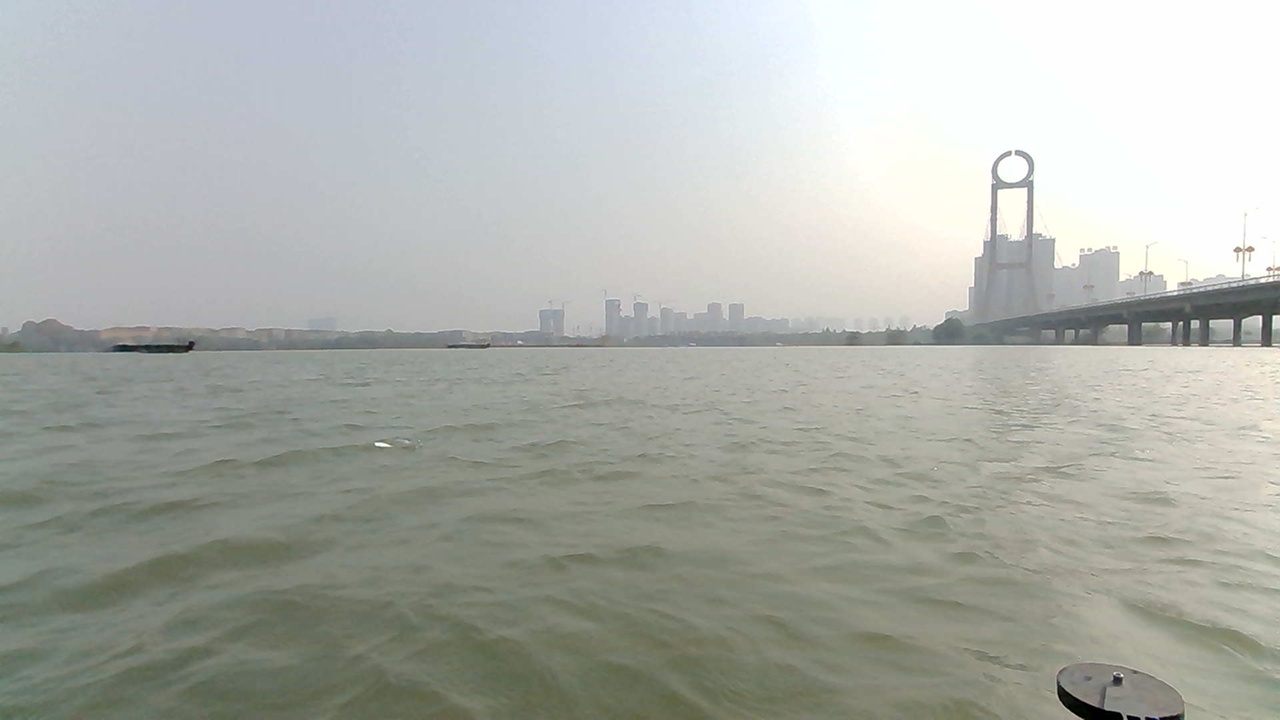bottle: (353, 422, 478, 477)
